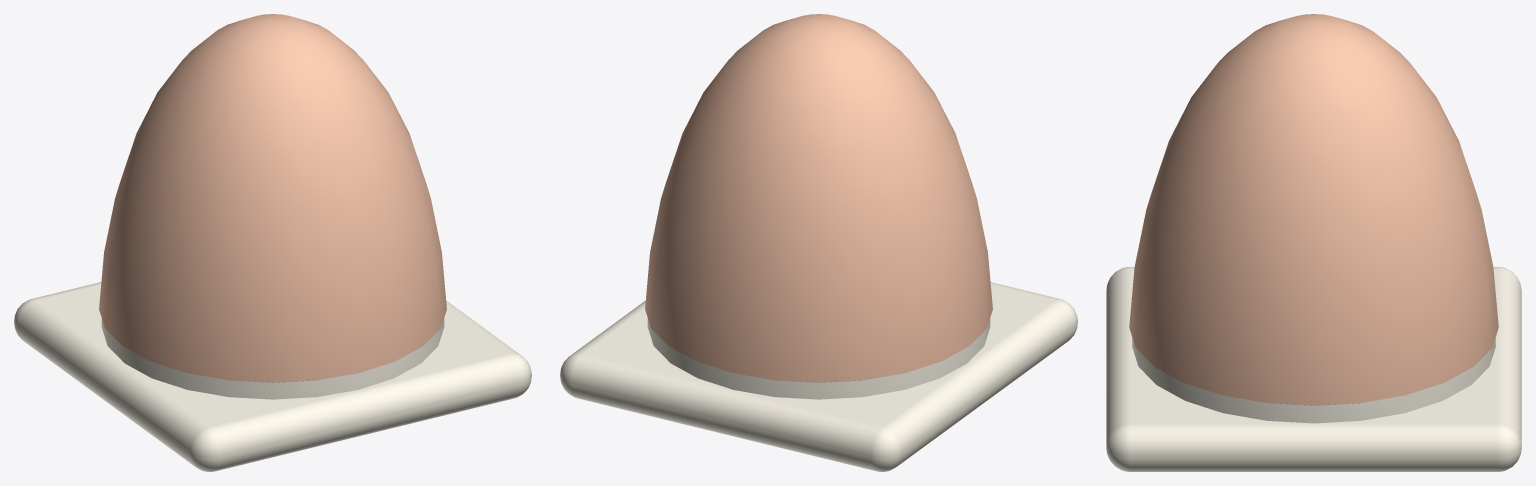
Rendered from R4B_Dome.fbx.
3 renders of one model, left to right at view 1: azimuth 30°, elevation 25°; view 2: azimuth 150°, elevation 25°; view 3: azimuth 270°, elevation 25°, orthographic. The views are drawn at different scales.
Visible parts, largest first — view 1: R4B_Dome; view 2: R4B_Dome; view 3: R4B_Dome.
Boxes of the visible parts, <box> form: R4B_Dome: <box>14,14,531,471</box>; R4B_Dome: <box>560,14,1077,471</box>; R4B_Dome: <box>1106,14,1521,471</box>.
Size of the model in its own units: 0.512 by 0.506 by 0.512.
